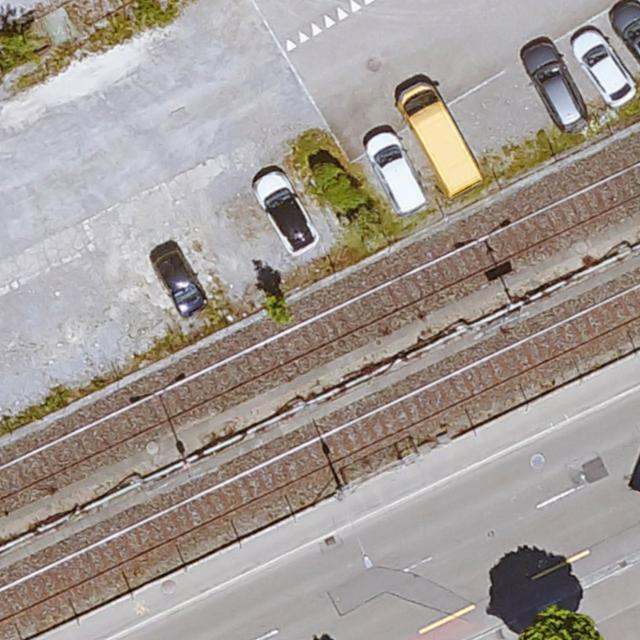tree: (516, 610, 607, 640), (264, 299, 296, 325)
